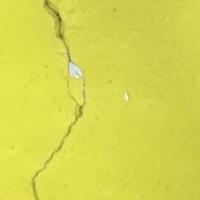crack: (25, 0, 88, 199)
